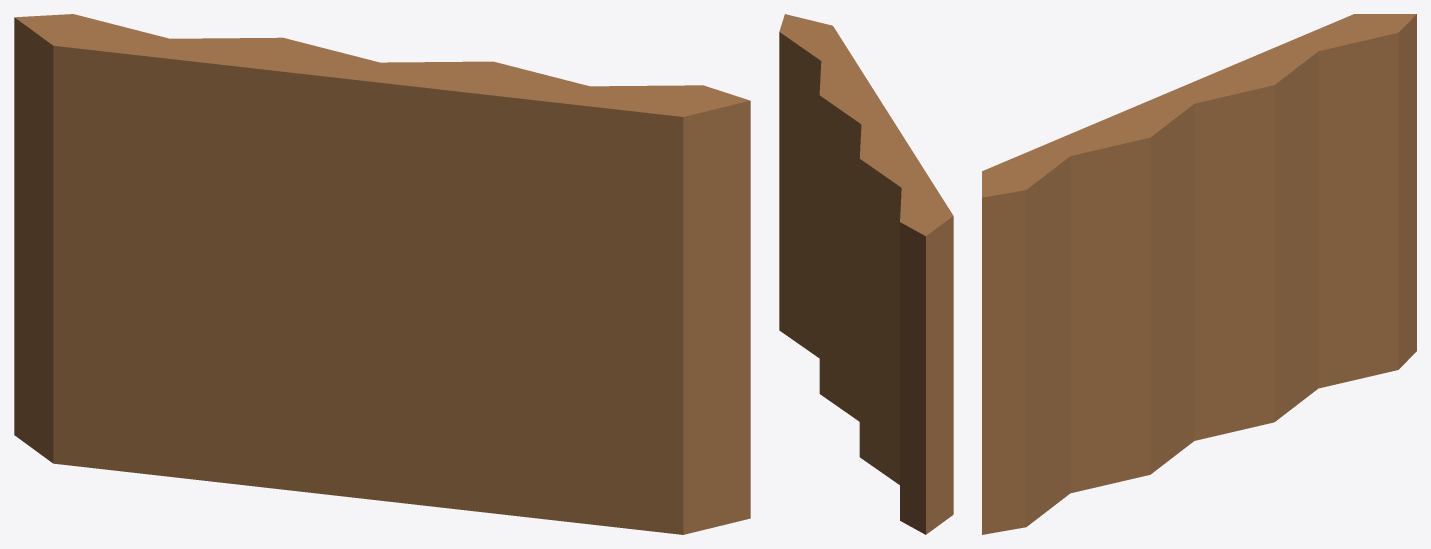
Rendered from cliff_diagonal_rock.glb.
The picture shows the model from 3 angles, left to right: view 1: azimuth 30°, elevation 25°; view 2: azimuth 150°, elevation 25°; view 3: azimuth 270°, elevation 25°; orthographic projection. The views are drawn at different scales.
Visible parts, largest first — view 1: cliff_diagonal_rock; view 2: cliff_diagonal_rock; view 3: cliff_diagonal_rock.
Part boxes in pixels (x1,y1,x2,y2): cliff_diagonal_rock: [14, 14, 750, 534]; cliff_diagonal_rock: [779, 14, 953, 534]; cliff_diagonal_rock: [982, 14, 1416, 534].
Bounding box in the file's own units: 1.17 × 1 × 1.17.
